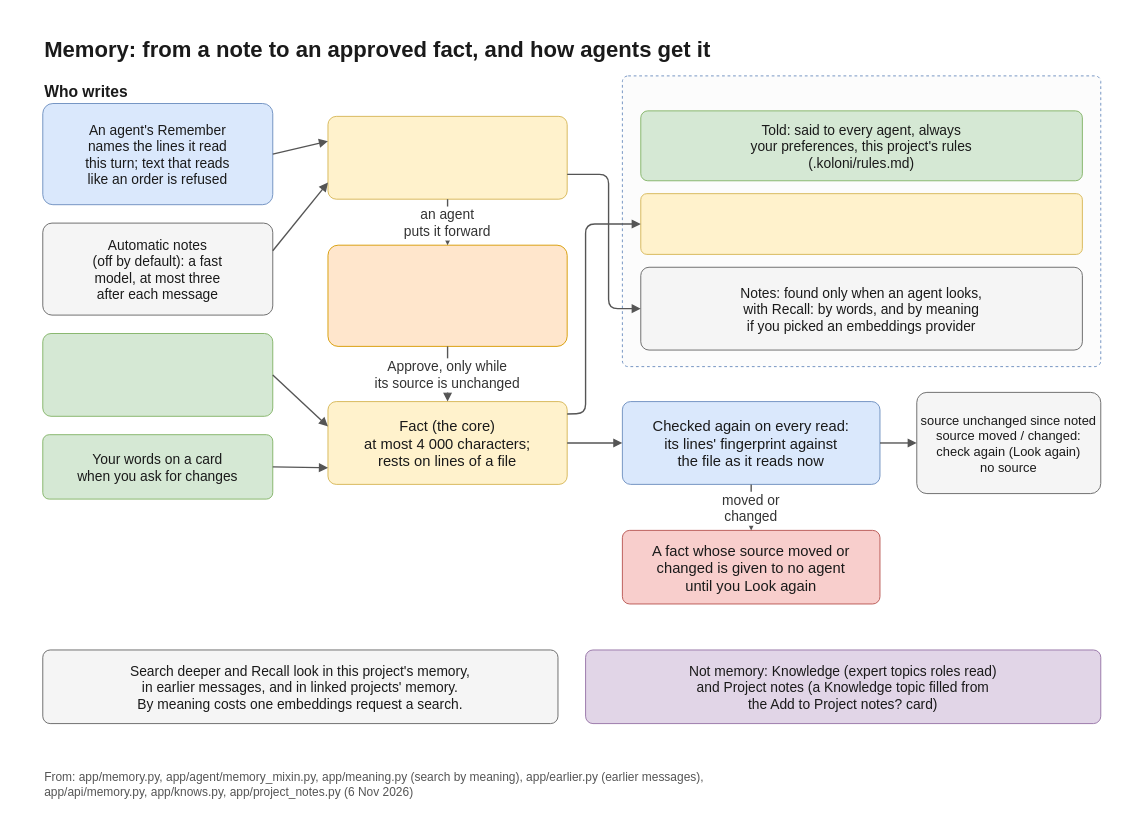
The diagram is 1134 pixels wide and 822 high, and some of its shapes have lost their labels. The shapes that lost their labels are listed below. From the top down, each one's box as (x1, y1, x2, y2) in pixels, then its label:
(327, 115, 567, 199): Note (the journal) a newer note on the same subject replaces the older
(621, 75, 1101, 367): How memory reaches an agent
(640, 193, 1082, 254): Facts: given when the agent's task names every word of the fact's subject
(327, 244, 567, 346): Proposal for the core waits for your word: Approve / Edit and approve / Reject
(42, 333, 273, 416): You: + Add a fact (subject, and a file with its lines if you like)
